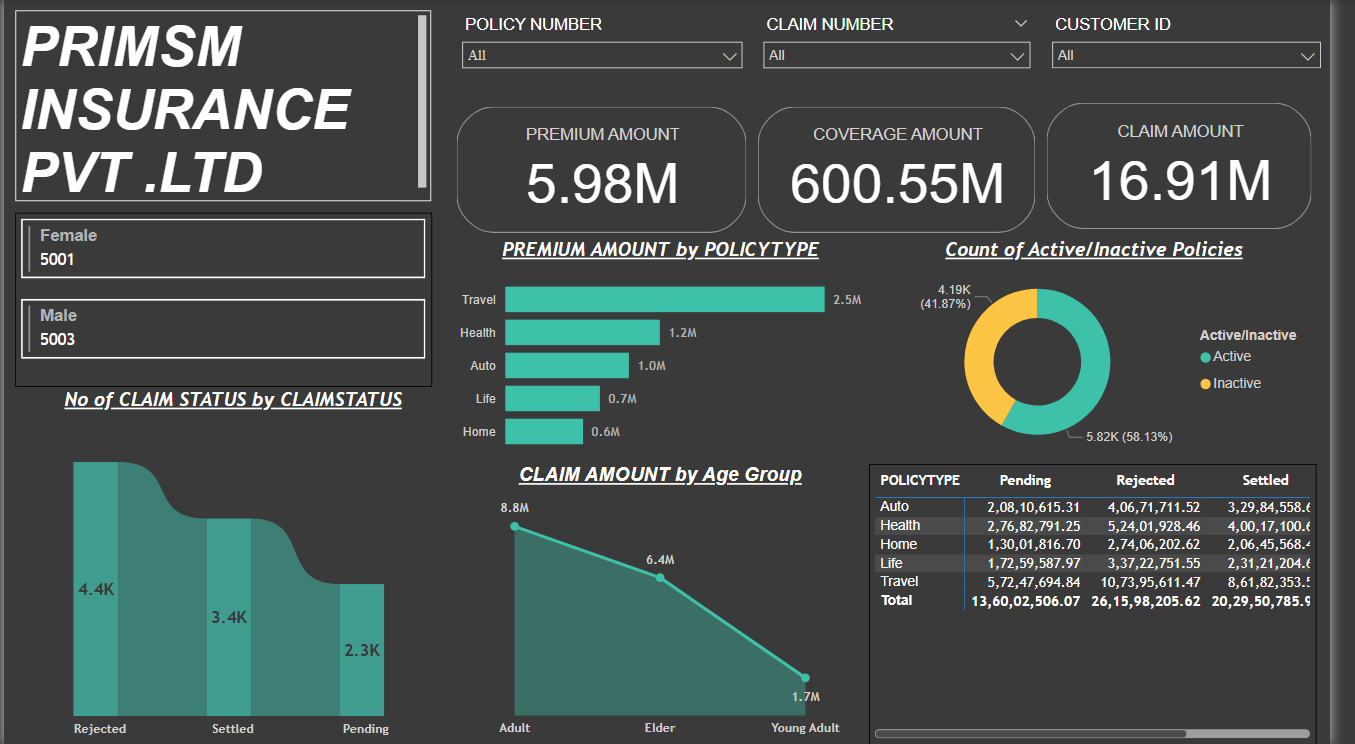

Layout of this report page (visuals, bound fields, positions):
{"tool":"powerbi","page":{"name":"Page 1","canvas":[1280,720],"ordinal":0},"visuals":[{"type":"slicer","fields":{"Values":["INSURANCE_DATA.CLAIMNUMBER"]},"box":[722.8,11.4,278,109.8],"z":0},{"type":"slicer","fields":{"Values":["INSURANCE_DATA.POLICYNUMBER"]},"box":[432,11.4,290.8,84.1],"z":1000},{"type":"slicer","fields":{"Values":["INSURANCE_DATA.CUSTOMERID"]},"box":[1000.8,11.4,279.4,55.6],"z":2000},{"type":"textbox","box":[10.9,10.9,401.7,184.6],"z":3000},{"type":"cardVisual","fields":{"Data":["Sum(INSURANCE_DATA.PREMIUMAMOUNT)"]},"box":[432,98.4,290.8,132.6],"z":4000},{"type":"cardVisual","fields":{"Data":["Sum(INSURANCE_DATA.COVERAGEAMOUNT)"]},"box":[722.8,98.4,278,132.6],"z":5000},{"type":"cardVisual","fields":{"Data":["Sum(INSURANCE_DATA.CLAIMAMOUNT)"]},"box":[1000.8,95.5,266.6,132.6],"z":6000},{"type":"multiRowCard","fields":{"Values":["INSURANCE_DATA.GENDER1","INSURANCE_DATA.GENDER"]},"box":[11.4,206.7,402.1,168.2],"z":7000},{"type":"ribbonChart","title":"No of CLAIM  STATUS by CLAIMSTATUS","fields":{"Category":["INSURANCE_DATA.CLAIMSTATUS"],"Y":["CountNonNull(INSURANCE_DATA.CLAIMSTATUS)"]},"box":[11.4,375,420.6,345],"z":8000},{"type":"barChart","title":" PREMIUM  AMOUNT by POLICYTYPE","fields":{"Y":["Sum(INSURANCE_DATA.PREMIUMAMOUNT)"],"Category":["INSURANCE_DATA.POLICYTYPE"]},"box":[432,231,403.5,218.1],"z":9000},{"type":"lineChart","title":" CLAIM  AMOUNT by Age Group","fields":{"Category":["INSURANCE_DATA.Age Group"],"Y":["Sum(INSURANCE_DATA.CLAIMAMOUNT)"]},"box":[432,449,403,271],"z":10000},{"type":"donutChart","title":"Count of  Active/Inactive Policies","fields":{"Category":["INSURANCE_DATA.Custom"],"Y":["CountNonNull(INSURANCE_DATA.Custom)"]},"box":[835.5,231,432,218.1],"z":11000},{"type":"pivotTable","fields":{"Rows":["INSURANCE_DATA.POLICYTYPE"],"Columns":["INSURANCE_DATA.CLAIMSTATUS"],"Values":["Sum(INSURANCE_DATA.COVERAGEAMOUNT)"]},"box":[835,449,432,271],"z":12000}]}

Visuals, with their boxes in screenshot pixels (x1, y1, x2, y2), scaled from the page's 1280x720 canvas onto the 1355x744 screenshot:
slicer - INSURANCE_DATA.CLAIMNUMBER: bbox=(765, 12, 1059, 125)
slicer - INSURANCE_DATA.POLICYNUMBER: bbox=(457, 12, 765, 99)
slicer - INSURANCE_DATA.CUSTOMERID: bbox=(1059, 12, 1354, 69)
textbox: bbox=(12, 11, 437, 202)
cardVisual - Sum(INSURANCE_DATA.PREMIUMAMOUNT): bbox=(457, 102, 765, 239)
cardVisual - Sum(INSURANCE_DATA.COVERAGEAMOUNT): bbox=(765, 102, 1059, 239)
cardVisual - Sum(INSURANCE_DATA.CLAIMAMOUNT): bbox=(1059, 99, 1342, 236)
multiRowCard - INSURANCE_DATA.GENDER1 x INSURANCE_DATA.GENDER: bbox=(12, 214, 438, 387)
"No of CLAIM  STATUS by CLAIMSTATUS" ribbonChart: bbox=(12, 388, 457, 743)
" PREMIUM  AMOUNT by POLICYTYPE" barChart: bbox=(457, 239, 884, 464)
" CLAIM  AMOUNT by Age Group" lineChart: bbox=(457, 464, 884, 743)
"Count of  Active/Inactive Policies" donutChart: bbox=(884, 239, 1342, 464)
pivotTable - INSURANCE_DATA.POLICYTYPE x INSURANCE_DATA.CLAIMSTATUS: bbox=(884, 464, 1341, 743)
